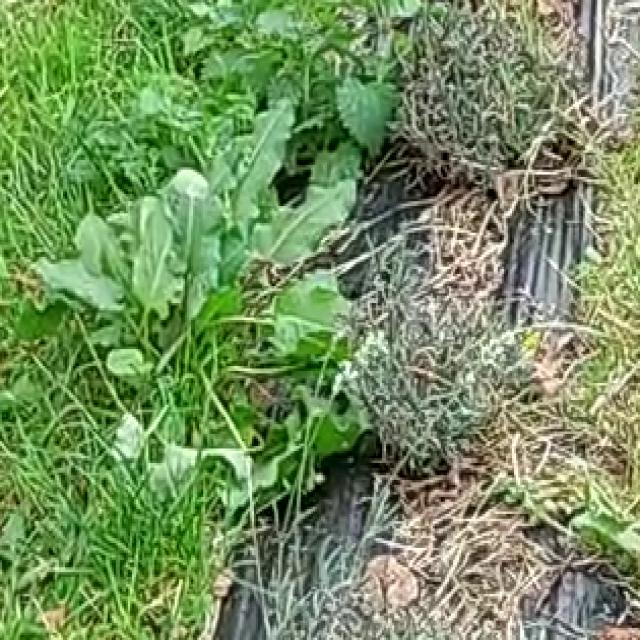organic waste: (31, 80, 363, 504)
